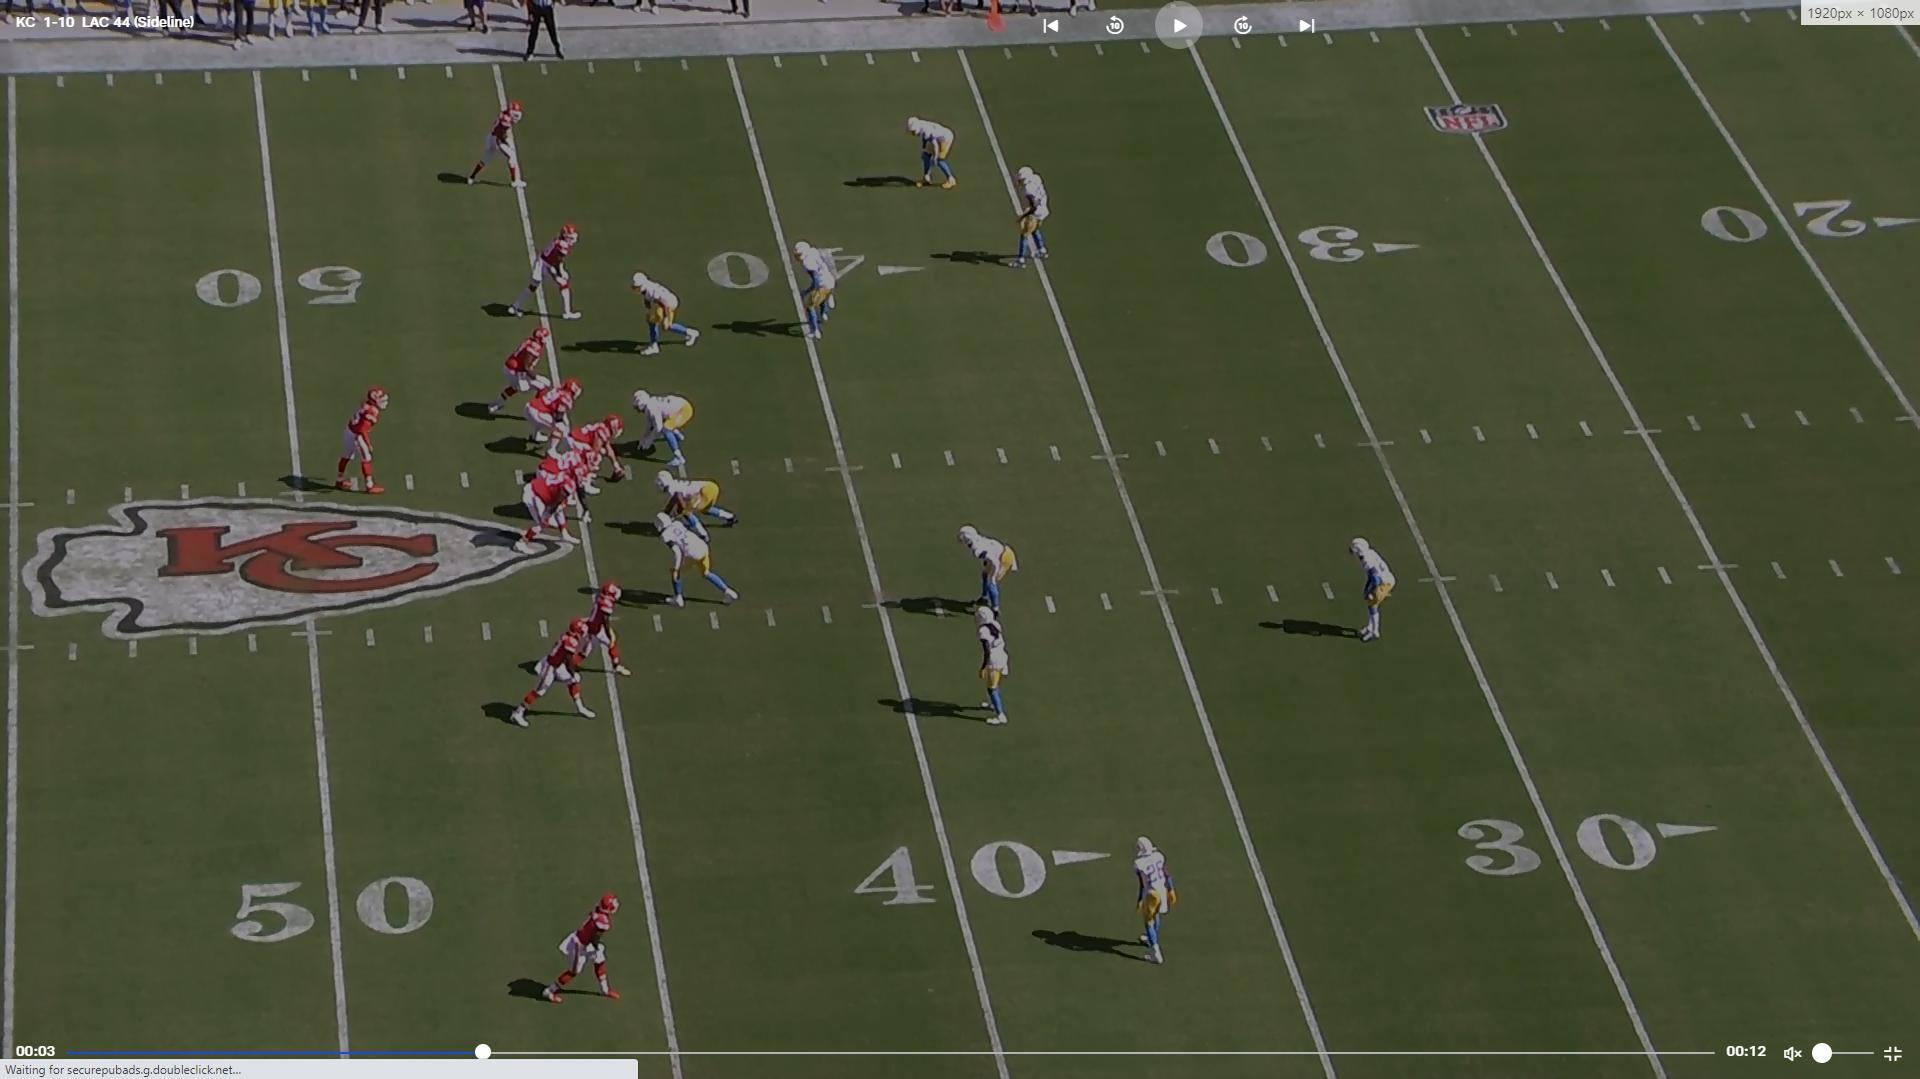defense: (649, 513, 742, 611), (1127, 834, 1185, 973), (629, 266, 702, 357), (956, 522, 1018, 627), (976, 604, 1025, 732), (790, 237, 844, 347), (654, 468, 744, 534), (1348, 537, 1398, 649), (626, 392, 698, 470), (1011, 164, 1060, 276), (903, 113, 963, 195)
oline: (518, 462, 592, 551), (491, 323, 558, 419), (559, 416, 632, 489), (524, 380, 583, 445), (537, 448, 601, 479)
qb: (330, 388, 390, 497)
ref: (522, 0, 567, 61)
skill: (537, 889, 628, 1008), (508, 613, 601, 728), (505, 219, 585, 326), (572, 572, 638, 679), (464, 96, 533, 193)
